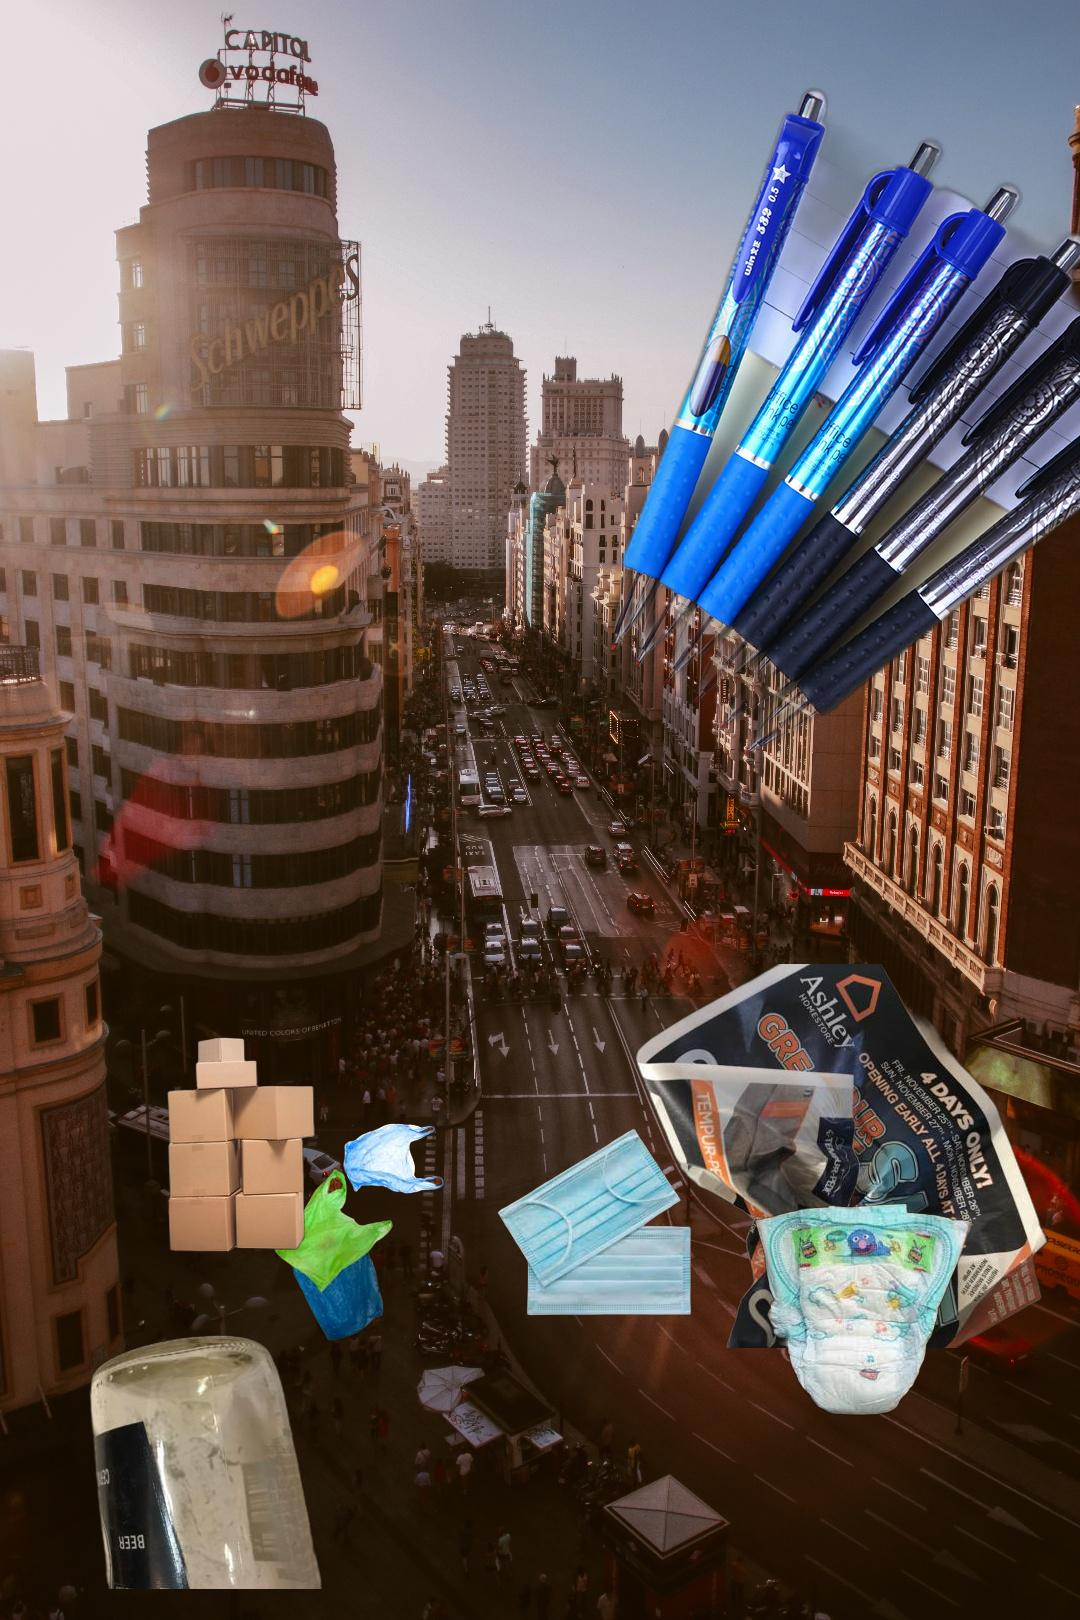glass: (86, 1332, 325, 1589)
paper: (630, 964, 1052, 1348)
penholder: (604, 83, 1080, 763)
plastic-bag: (272, 1121, 447, 1343)
trash: (753, 1201, 975, 1417), (495, 1127, 694, 1317)
trashbox-cardboard: (164, 1035, 318, 1255)
